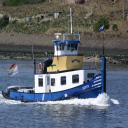tugboat: (3, 33, 108, 107)
